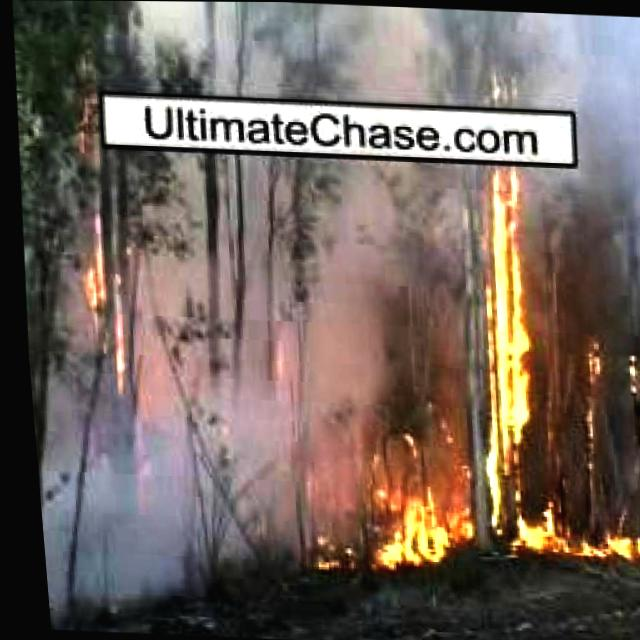Fire: (353, 468, 640, 571), (461, 165, 549, 469), (68, 208, 128, 331), (567, 325, 605, 449), (617, 342, 639, 406)
Smoke: (9, 146, 490, 619), (129, 1, 640, 95)
